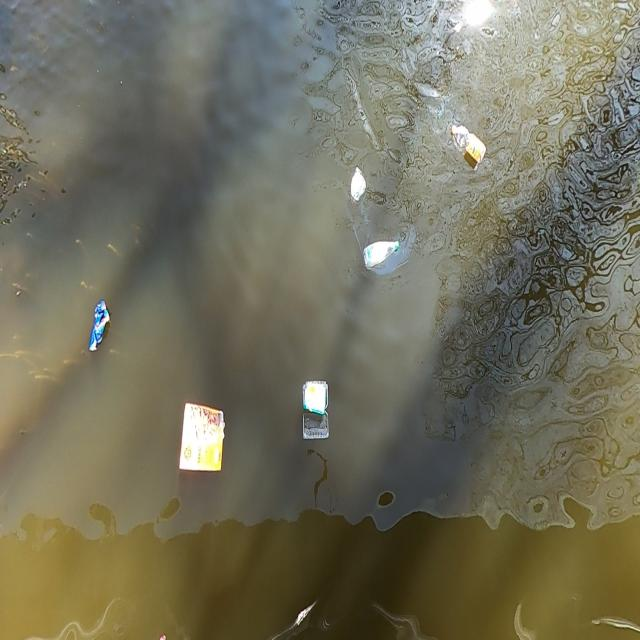Bouteille plastique: (450, 121, 491, 165), (362, 235, 407, 272)
